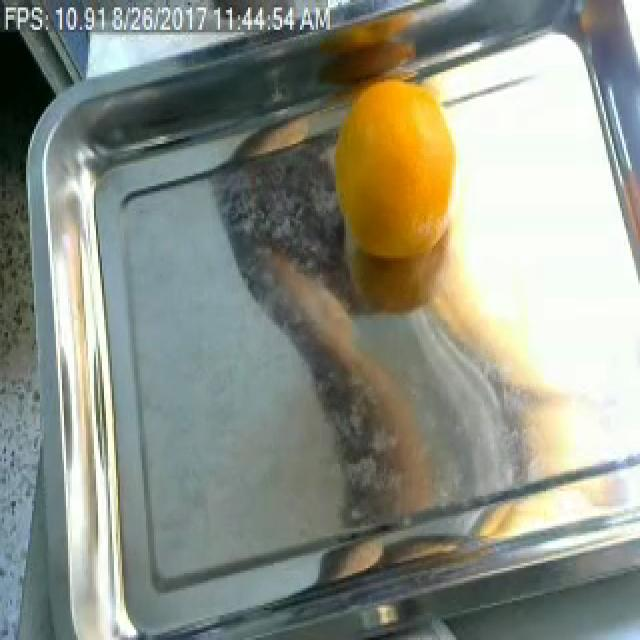Fruit: (322, 57, 478, 283)
